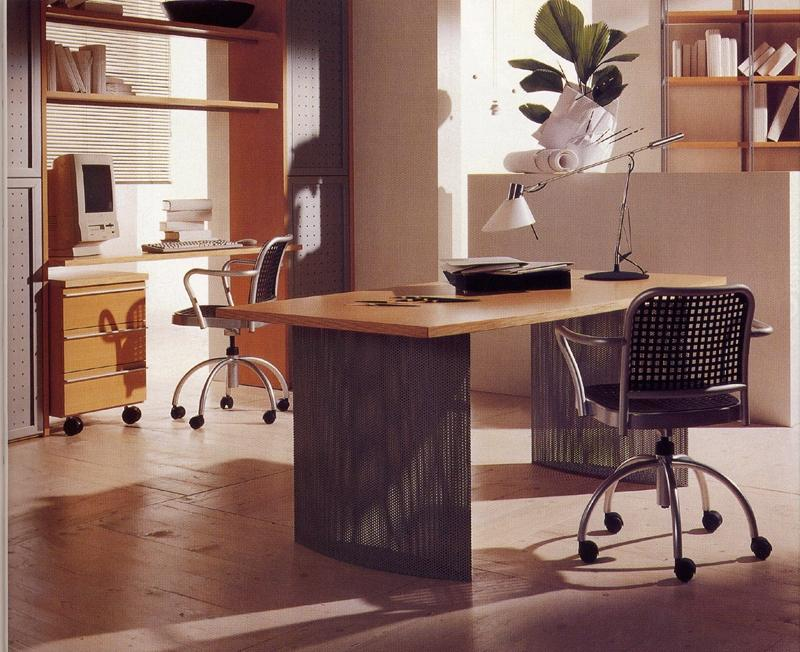fire: (693, 431, 800, 570)
